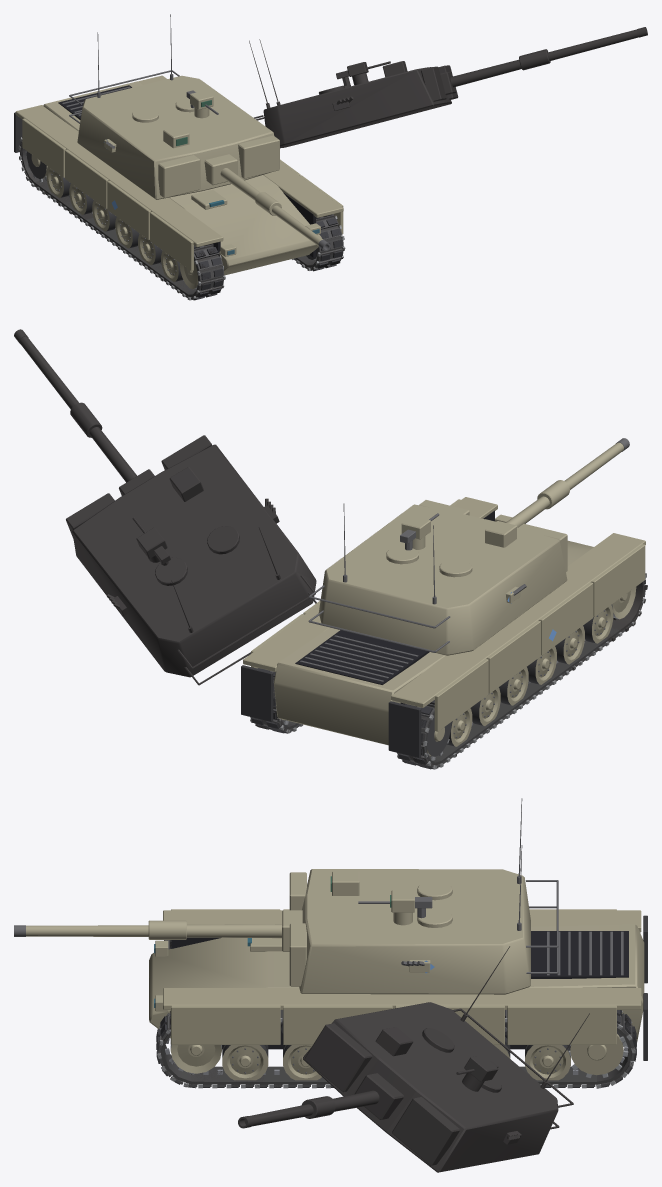
Rendered from tank__type_90.glb.
The picture shows the model from 3 angles, top to bottom: view 1: azimuth 30°, elevation 25°; view 2: azimuth 150°, elevation 25°; view 3: azimuth 270°, elevation 25°; orthographic projection. The views are drawn at different scales.
Parts seen in each view (by area): view 1: Hull_Mesh, Turret_Mesh, Wreck, Track_L_Mesh, Gun_Mesh, Track_R_Mesh, Wheel_L0_Mesh, CITV_Mesh, Wheel_L2_Mesh, Wheel_L1_Mesh, Wheel_L4_Mesh, Wheel_L3_Mesh (+2 smaller); view 2: Wreck, Hull_Mesh, Turret_Mesh, Track_L_Mesh, Gun_Mesh, Wheel_L1_Mesh, Wheel_L3_Mesh, Wheel_L5_Mesh, Wheel_L2_Mesh, Wheel_L4_Mesh, Gunner_Sight_Mesh, Sprocket_L_Mesh (+2 smaller); view 3: Hull_Mesh, Wreck, Turret_Mesh, Track_R_Mesh, Gun_Mesh, Sprocket_R_Mesh, Wheel_R5_Mesh, Wheel_R0_Mesh, Idler_R_Mesh, Wheel_R4_Mesh, CITV_Mesh, Gunner_Sight_Mesh (+1 smaller).
Part boxes in pixels (x1=…): Hull_Mesh: x1=14, y1=75, x2=343, y2=275; Turret_Mesh: x1=69, y1=70, x2=279, y2=199; Wreck: x1=19, y1=27, x2=647, y2=300; Track_L_Mesh: x1=18, y1=137, x2=225, y2=300; Gun_Mesh: x1=204, y1=154, x2=330, y2=251; Track_R_Mesh: x1=292, y1=214, x2=345, y2=271; Wheel_L0_Mesh: x1=46, y1=166, x2=70, y2=198; CITV_Mesh: x1=190, y1=90, x2=213, y2=118; Wheel_L2_Mesh: x1=92, y1=200, x2=116, y2=231; Wheel_L1_Mesh: x1=69, y1=183, x2=93, y2=214; Wheel_L4_Mesh: x1=138, y1=234, x2=162, y2=265; Wheel_L3_Mesh: x1=115, y1=217, x2=139, y2=248; Wreck: x1=14, y1=329, x2=647, y2=767; Hull_Mesh: x1=241, y1=497, x2=645, y2=757; Turret_Mesh: x1=308, y1=500, x2=567, y2=655; Track_L_Mesh: x1=397, y1=573, x2=647, y2=769; Gun_Mesh: x1=485, y1=438, x2=629, y2=527; Wheel_L1_Mesh: x1=470, y1=687, x2=500, y2=725; Wheel_L3_Mesh: x1=527, y1=646, x2=556, y2=684; Wheel_L5_Mesh: x1=583, y1=605, x2=613, y2=643; Wheel_L2_Mesh: x1=499, y1=667, x2=528, y2=705; Wheel_L4_Mesh: x1=555, y1=626, x2=584, y2=664; Gunner_Sight_Mesh: x1=485, y1=521, x2=516, y2=547; Sprocket_L_Mesh: x1=427, y1=715, x2=451, y2=760; Hull_Mesh: x1=149, y1=909, x2=647, y2=1060; Wreck: x1=158, y1=940, x2=635, y2=1172; Turret_Mesh: x1=289, y1=869, x2=558, y2=994; Track_R_Mesh: x1=156, y1=1010, x2=636, y2=1088; Gun_Mesh: x1=14, y1=910, x2=302, y2=951; Sprocket_R_Mesh: x1=568, y1=1031, x2=628, y2=1078; Wheel_R5_Mesh: x1=222, y1=1045, x2=268, y2=1080; Wheel_R0_Mesh: x1=525, y1=1045, x2=570, y2=1080; Idler_R_Mesh: x1=170, y1=1038, x2=221, y2=1073; Wheel_R4_Mesh: x1=283, y1=1045, x2=321, y2=1080; CITV_Mesh: x1=390, y1=890, x2=414, y2=925; Gunner_Sight_Mesh: x1=330, y1=871, x2=359, y2=895.
Size of what is drawn, in the model's own units: 11.21 by 3.7 by 9.61.
